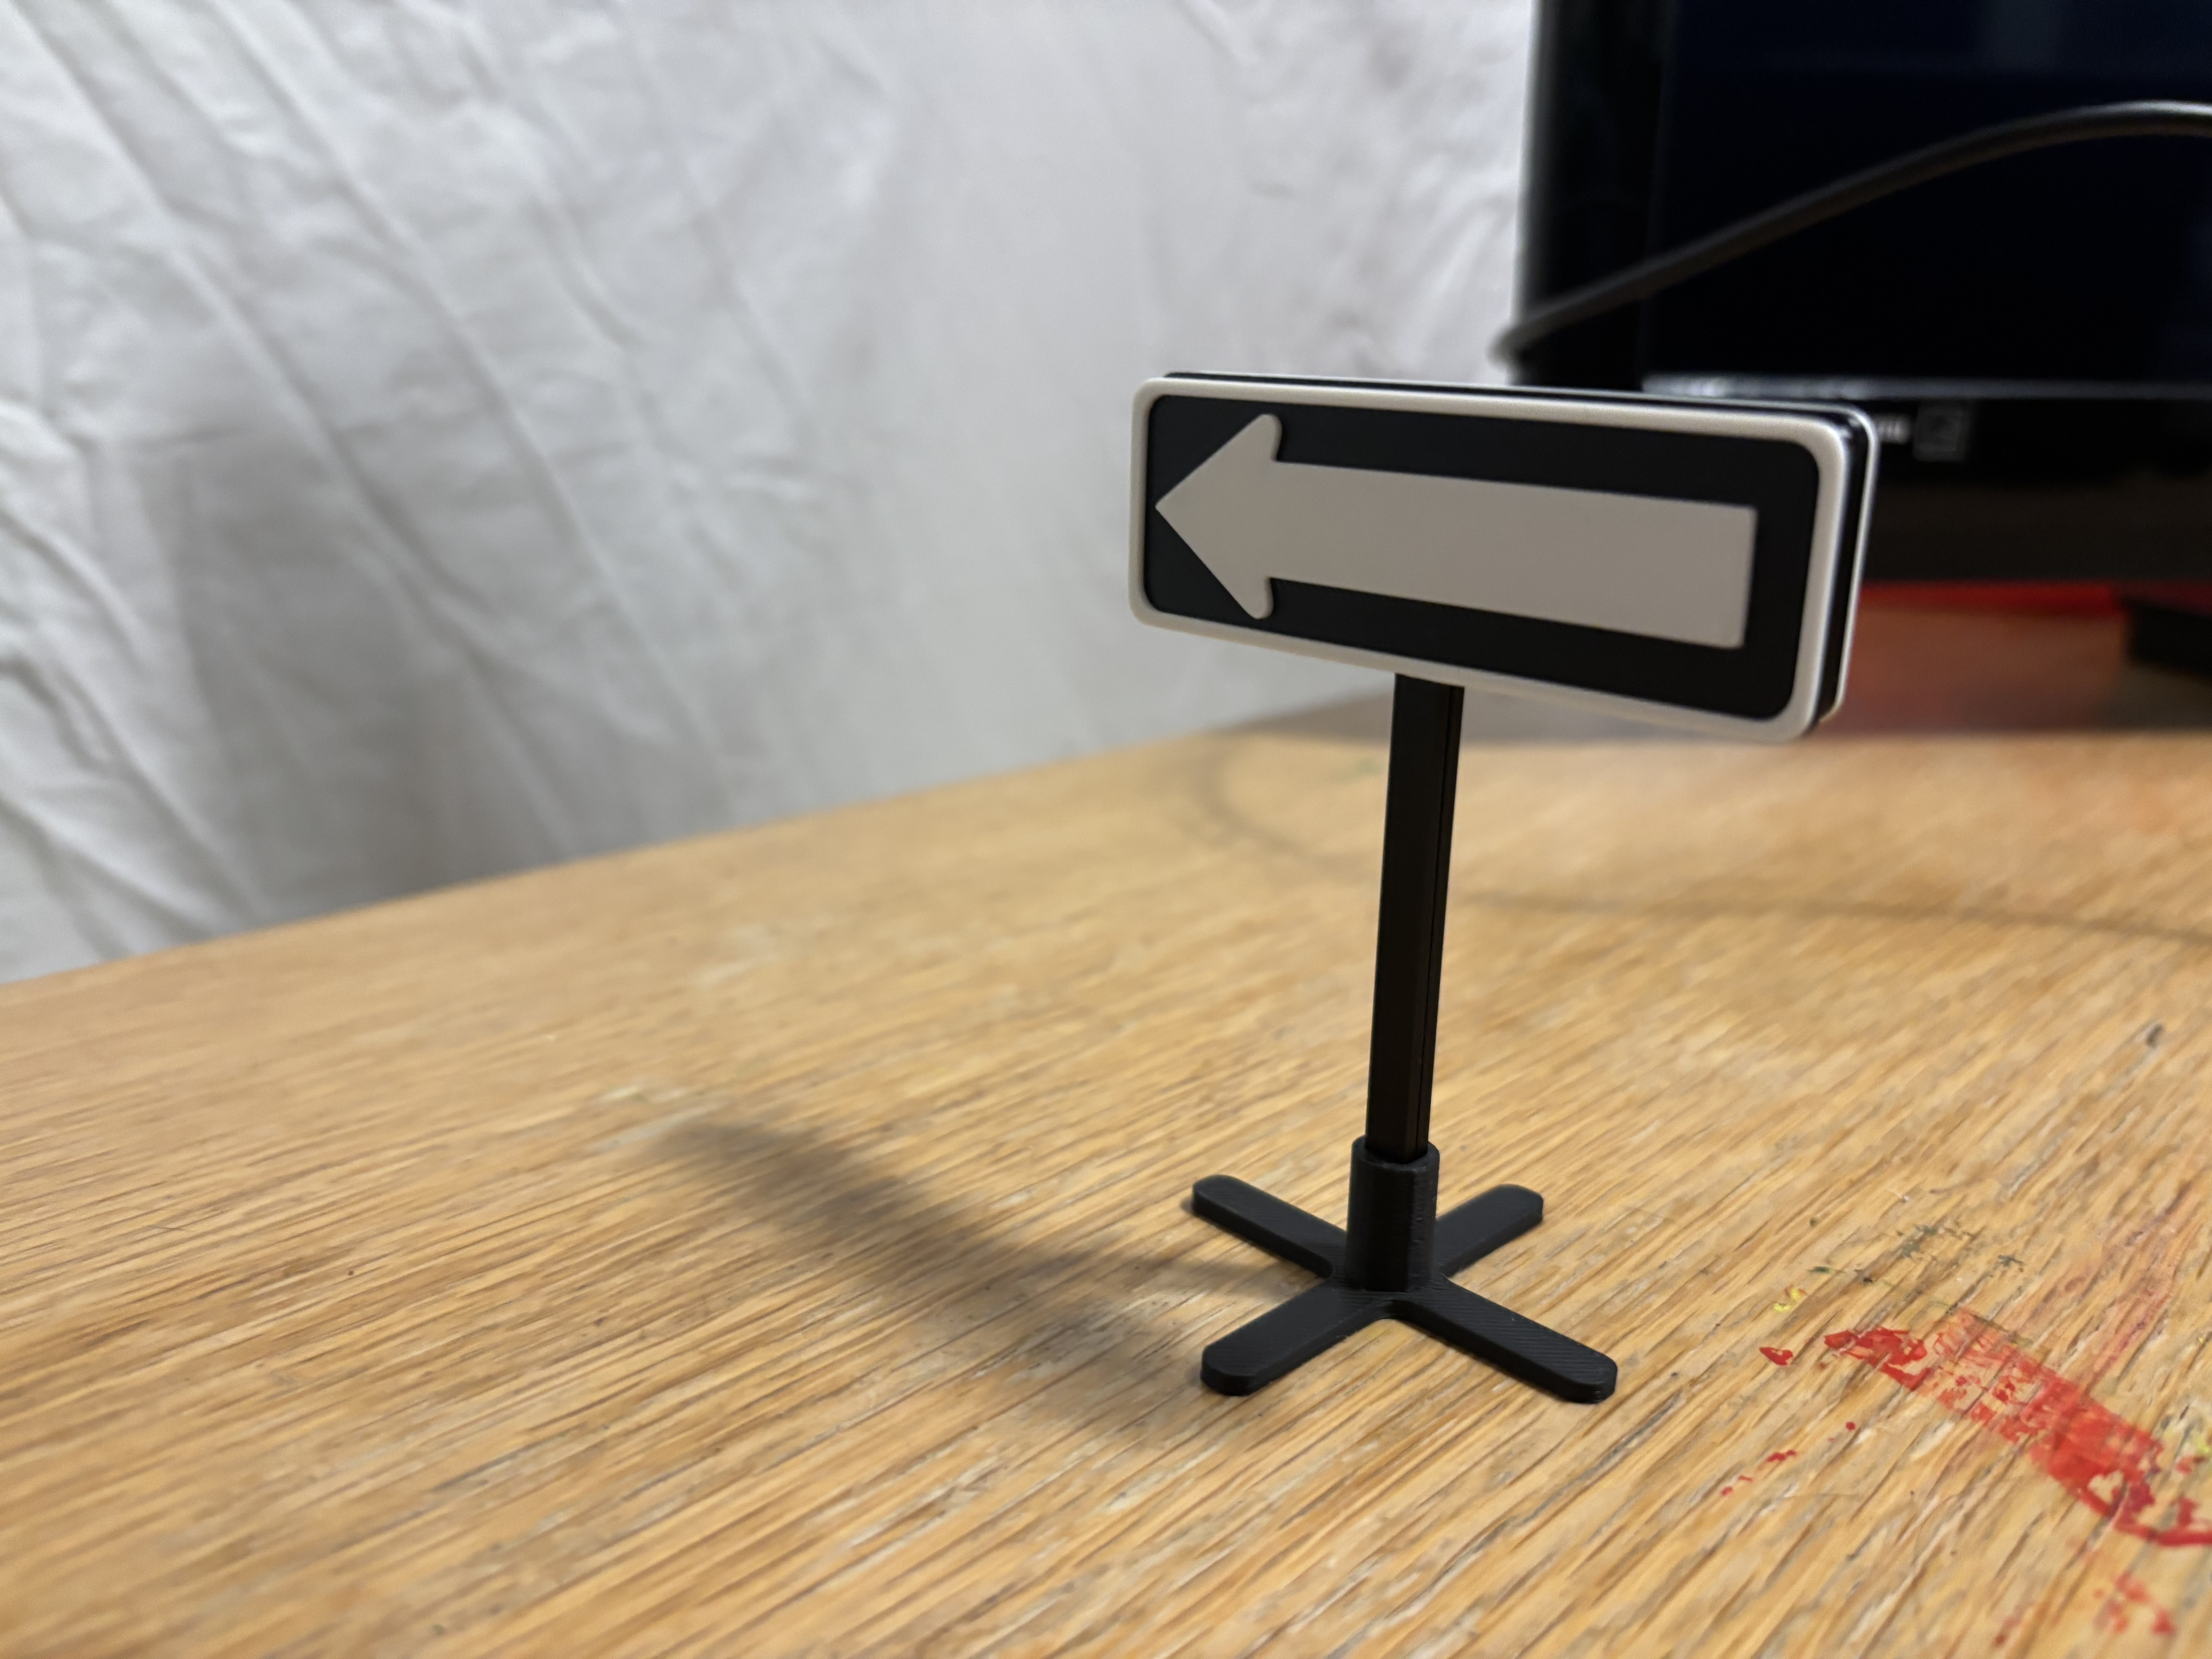sign_oneway_left: (1113, 359, 1867, 781)
